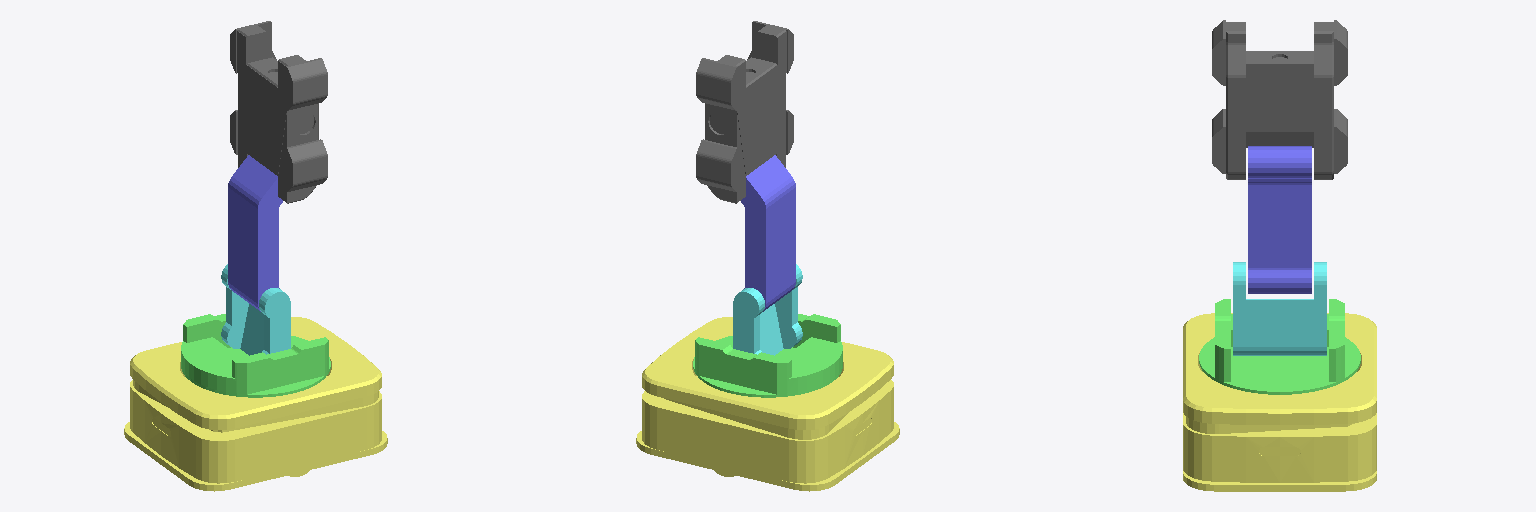
URDF robot description (agv):
<?xml version="1.0" encoding="utf-8"?>
<!-- This URDF was automatically created by SolidWorks to URDF Exporter! Originally created by Stephen Brawner (brawner@gmail.com) 
     Commit Version: 1.6.0-4-g7f85cfe  Build Version: 1.6.7995.38578
     For more information, please see http://wiki.ros.org/sw_urdf_exporter -->
<robot
  name="agv">
  <link
    name="agv_link">
    <inertial>
      <origin
        xyz="3.7914E-10 5.7502E-12 0.11726"
        rpy="0 0 0" />
      <mass
        value="93.325" />
      <inertia
        ixx="3.242"
        ixy="0.07696"
        ixz="-3.9542E-10"
        iyy="4.5012"
        iyz="-6.8234E-10"
        izz="6.822" />
    </inertial>
    <visual>
      <origin
        xyz="0 0 0"
        rpy="0 0 0" />
      <geometry>
        <mesh
          filename="package://agv/meshes/agv_link.STL" />
      </geometry>
      <material
        name="">
        <color
          rgba="1 1 0.50196 1" />
      </material>
    </visual>
    <collision>
      <origin
        xyz="0 0 0"
        rpy="0 0 0" />
      <geometry>
        <mesh
          filename="package://agv/meshes/agv_link.STL" />
      </geometry>
    </collision>
  </link>
  <link
    name="link1">
    <inertial>
      <origin
        xyz="-0.048953 2.7756E-17 0.042581"
        rpy="0 0 0" />
      <mass
        value="8.2933" />
      <inertia
        ixx="0.17013"
        ixy="4.8522E-18"
        ixz="-0.0067953"
        iyy="0.11951"
        iyz="-5.8497E-18"
        izz="0.27791" />
    </inertial>
    <visual>
      <origin
        xyz="0 0 0"
        rpy="0 0 0" />
      <geometry>
        <mesh
          filename="package://agv/meshes/link1.STL" />
      </geometry>
      <material
        name="">
        <color
          rgba="0.50196 1 0.50196 1" />
      </material>
    </visual>
    <collision>
      <origin
        xyz="0 0 0"
        rpy="0 0 0" />
      <geometry>
        <mesh
          filename="package://agv/meshes/link1.STL" />
      </geometry>
    </collision>
  </link>
  <joint
    name="joint1"
    type="revolute">
    <origin
      xyz="0 0 0.27"
      rpy="0 0 0" />
    <parent
      link="agv_link" />
    <child
      link="link1" />
    <axis
      xyz="0 0 1" />
    <limit
      lower="-3.14"
      upper="3.14"
      effort="500"
      velocity="10" />
  </joint>
  <link
    name="link2">
    <inertial>
      <origin
        xyz="0.014513 -0.145 0.080116"
        rpy="0 0 0" />
      <mass
        value="3.1539" />
      <inertia
        ixx="0.058879"
        ixy="-1.7824E-18"
        ixz="0.0010249"
        iyy="0.024407"
        iyz="6.3724E-19"
        izz="0.038536" />
    </inertial>
    <visual>
      <origin
        xyz="0 0 0"
        rpy="0 0 0" />
      <geometry>
        <mesh
          filename="package://agv/meshes/link2.STL" />
      </geometry>
      <material
        name="">
        <color
          rgba="0.50196 1 1 1" />
      </material>
    </visual>
    <collision>
      <origin
        xyz="0 0 0"
        rpy="0 0 0" />
      <geometry>
        <mesh
          filename="package://agv/meshes/link2.STL" />
      </geometry>
    </collision>
  </link>
  <joint
    name="joint2"
    type="revolute">
    <origin
      xyz="0 0.145 0.07"
      rpy="0 0 0" />
    <parent
      link="link1" />
    <child
      link="link2" />
    <axis
      xyz="0 -1 0" />
    <limit
      lower="-1.57"
      upper="1.57"
      effort="500"
      velocity="10" />
  </joint>
  <link
    name="link3">
    <inertial>
      <origin
        xyz="0.0092384 -0.1 0.22763"
        rpy="0 0 0" />
      <mass
        value="9.3321" />
      <inertia
        ixx="0.25421"
        ixy="-2.1991E-18"
        ixz="-0.029495"
        iyy="0.23855"
        iyz="-1.4282E-18"
        izz="0.046554" />
    </inertial>
    <visual>
      <origin
        xyz="0 0 0"
        rpy="0 0 0" />
      <geometry>
        <mesh
          filename="package://agv/meshes/link3.STL" />
      </geometry>
      <material
        name="">
        <color
          rgba="0.50196 0.50196 1 1" />
      </material>
    </visual>
    <collision>
      <origin
        xyz="0 0 0"
        rpy="0 0 0" />
      <geometry>
        <mesh
          filename="package://agv/meshes/link3.STL" />
      </geometry>
    </collision>
  </link>
  <joint
    name="joint3"
    type="revolute">
    <origin
      xyz="0 -0.045 0.21"
      rpy="0 0 0" />
    <parent
      link="link2" />
    <child
      link="link3" />
    <axis
      xyz="0 -1 0" />
    <limit
      lower="-1.57"
      upper="1.57"
      effort="500"
      velocity="10" />
  </joint>
  <link
    name="link4">
    <inertial>
      <origin
        xyz="-0.00025689 -0.1 0.2059"
        rpy="0 0 0" />
      <mass
        value="16.106" />
      <inertia
        ixx="0.33465"
        ixy="-1.6831E-18"
        ixz="0.0012617"
        iyy="0.20228"
        iyz="-1.2146E-17"
        izz="0.16857" />
    </inertial>
    <visual>
      <origin
        xyz="0 0 0"
        rpy="0 0 0" />
      <geometry>
        <mesh
          filename="package://agv/meshes/link4.STL" />
      </geometry>
      <material
        name="">
        <color
          rgba="0.50196 0.50196 0.50196 1" />
      </material>
    </visual>
    <collision>
      <origin
        xyz="0 0 0"
        rpy="0 0 0" />
      <geometry>
        <mesh
          filename="package://agv/meshes/link4.STL" />
      </geometry>
    </collision>
  </link>
  <joint
    name="joint4"
    type="revolute">
    <origin
      xyz="0.08 0 0.43"
      rpy="0 0 0" />
    <parent
      link="link3" />
    <child
      link="link4" />
    <axis
      xyz="0 -1 0" />
    <limit
      lower="-1.57"
      upper="1.57"
      effort="500"
      velocity="10" />
  </joint>
</robot>

--- Facts derived from the render (not from the file) ---
The picture shows the robot from 3 angles, left to right: view 1: azimuth 30°, elevation 25°; view 2: azimuth 150°, elevation 25°; view 3: azimuth 270°, elevation 25°; orthographic projection.
Model agv with 5 links and 4 joints (4 revolute), rooted at agv_link, posed all joints at 0.
Links seen in each view (by area): view 1: agv_link, link4, link1, link3, link2; view 2: agv_link, link4, link1, link3, link2; view 3: agv_link, link4, link3, link1, link2.
Link boxes in pixels (x1,y1,x2,y2): agv_link: [124, 317, 387, 491]; link4: [230, 21, 327, 203]; link1: [181, 314, 330, 397]; link3: [228, 155, 282, 311]; link2: [221, 264, 290, 355]; agv_link: [636, 317, 899, 491]; link4: [696, 21, 793, 203]; link1: [693, 314, 842, 397]; link3: [741, 155, 795, 311]; link2: [733, 264, 802, 355]; agv_link: [1183, 313, 1376, 491]; link4: [1212, 20, 1347, 179]; link3: [1248, 146, 1311, 293]; link1: [1199, 299, 1360, 394]; link2: [1233, 262, 1326, 355].
Size in the robot's own frame: 0.75 by 0.6 by 1.46 metres.
5 mesh visuals loaded from 5 distinct referenced files (5 binary STL).
